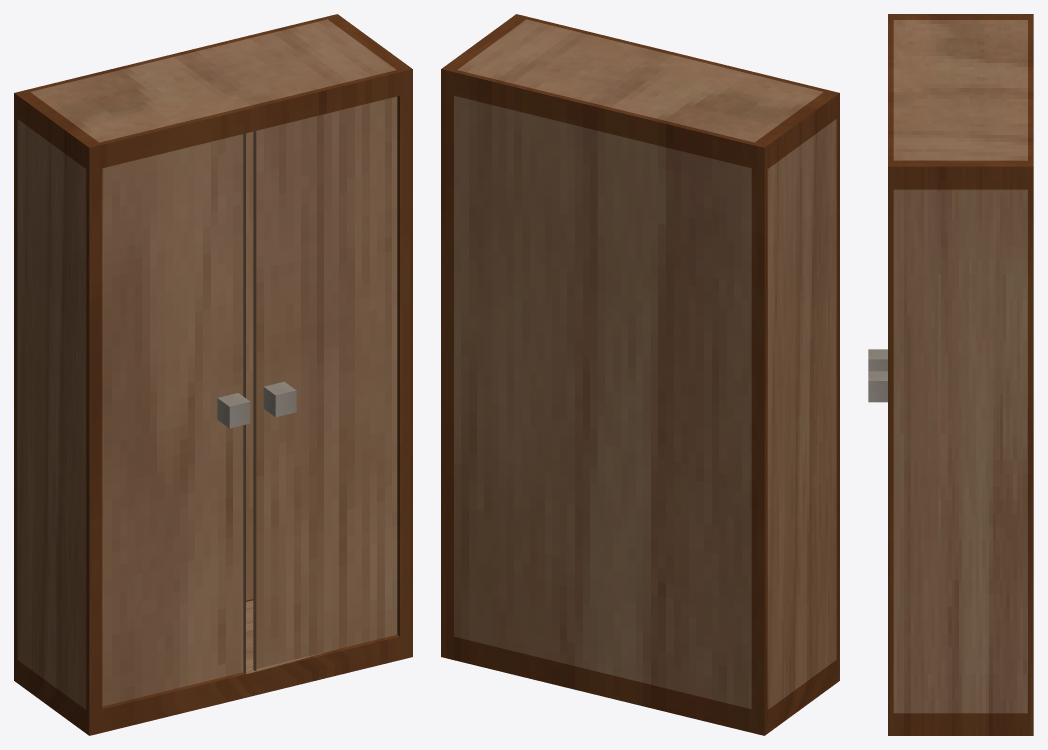
File: Closet.glb
3 views of the same model, side by side, from view 1: azimuth 30°, elevation 25°; view 2: azimuth 150°, elevation 25°; view 3: azimuth 270°, elevation 25° (orthographic). The views are drawn at different scales.
Visible parts, largest first — view 1: Closet, Knob1, Knob2; view 2: Closet; view 3: Closet, Knob1, Knob2.
Part boxes in pixels (x1,y1,x2,y2): Closet: [14, 14, 412, 735]; Knob1: [263, 381, 296, 417]; Knob2: [217, 393, 250, 428]; Closet: [441, 14, 839, 735]; Closet: [888, 14, 1033, 735]; Knob1: [868, 371, 887, 402]; Knob2: [868, 349, 887, 371].
Size of the model in its own units: 4.96 by 8.62 by 2.27.
3 materials, 3 textured.
